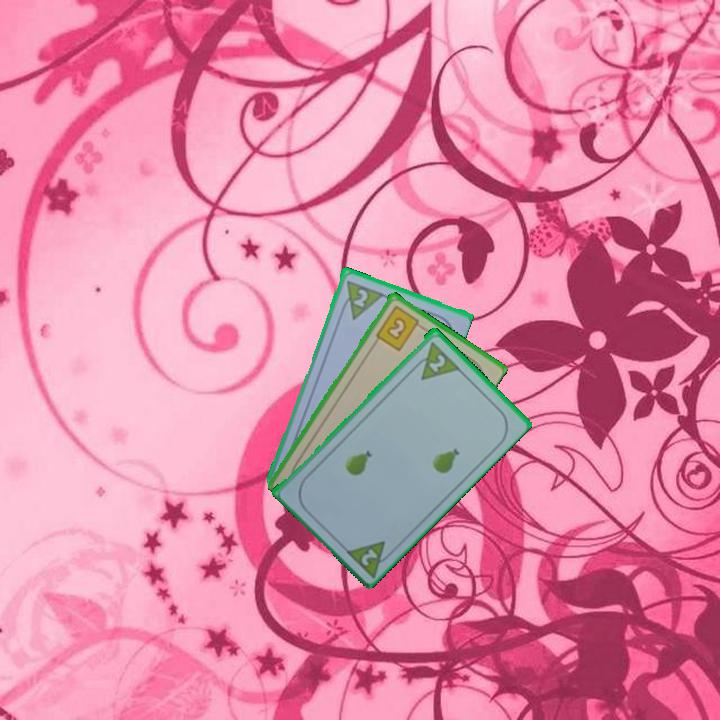2b: (372, 302, 426, 353)
2p: (408, 337, 461, 383), (336, 276, 385, 322), (357, 545, 381, 569)
